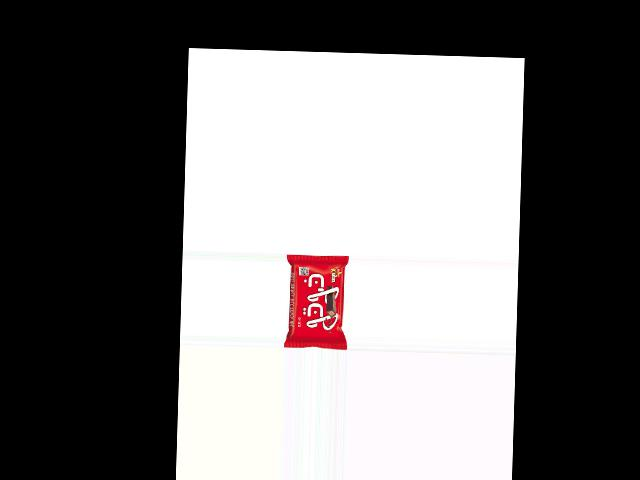chocolate: (282, 254, 349, 349)
